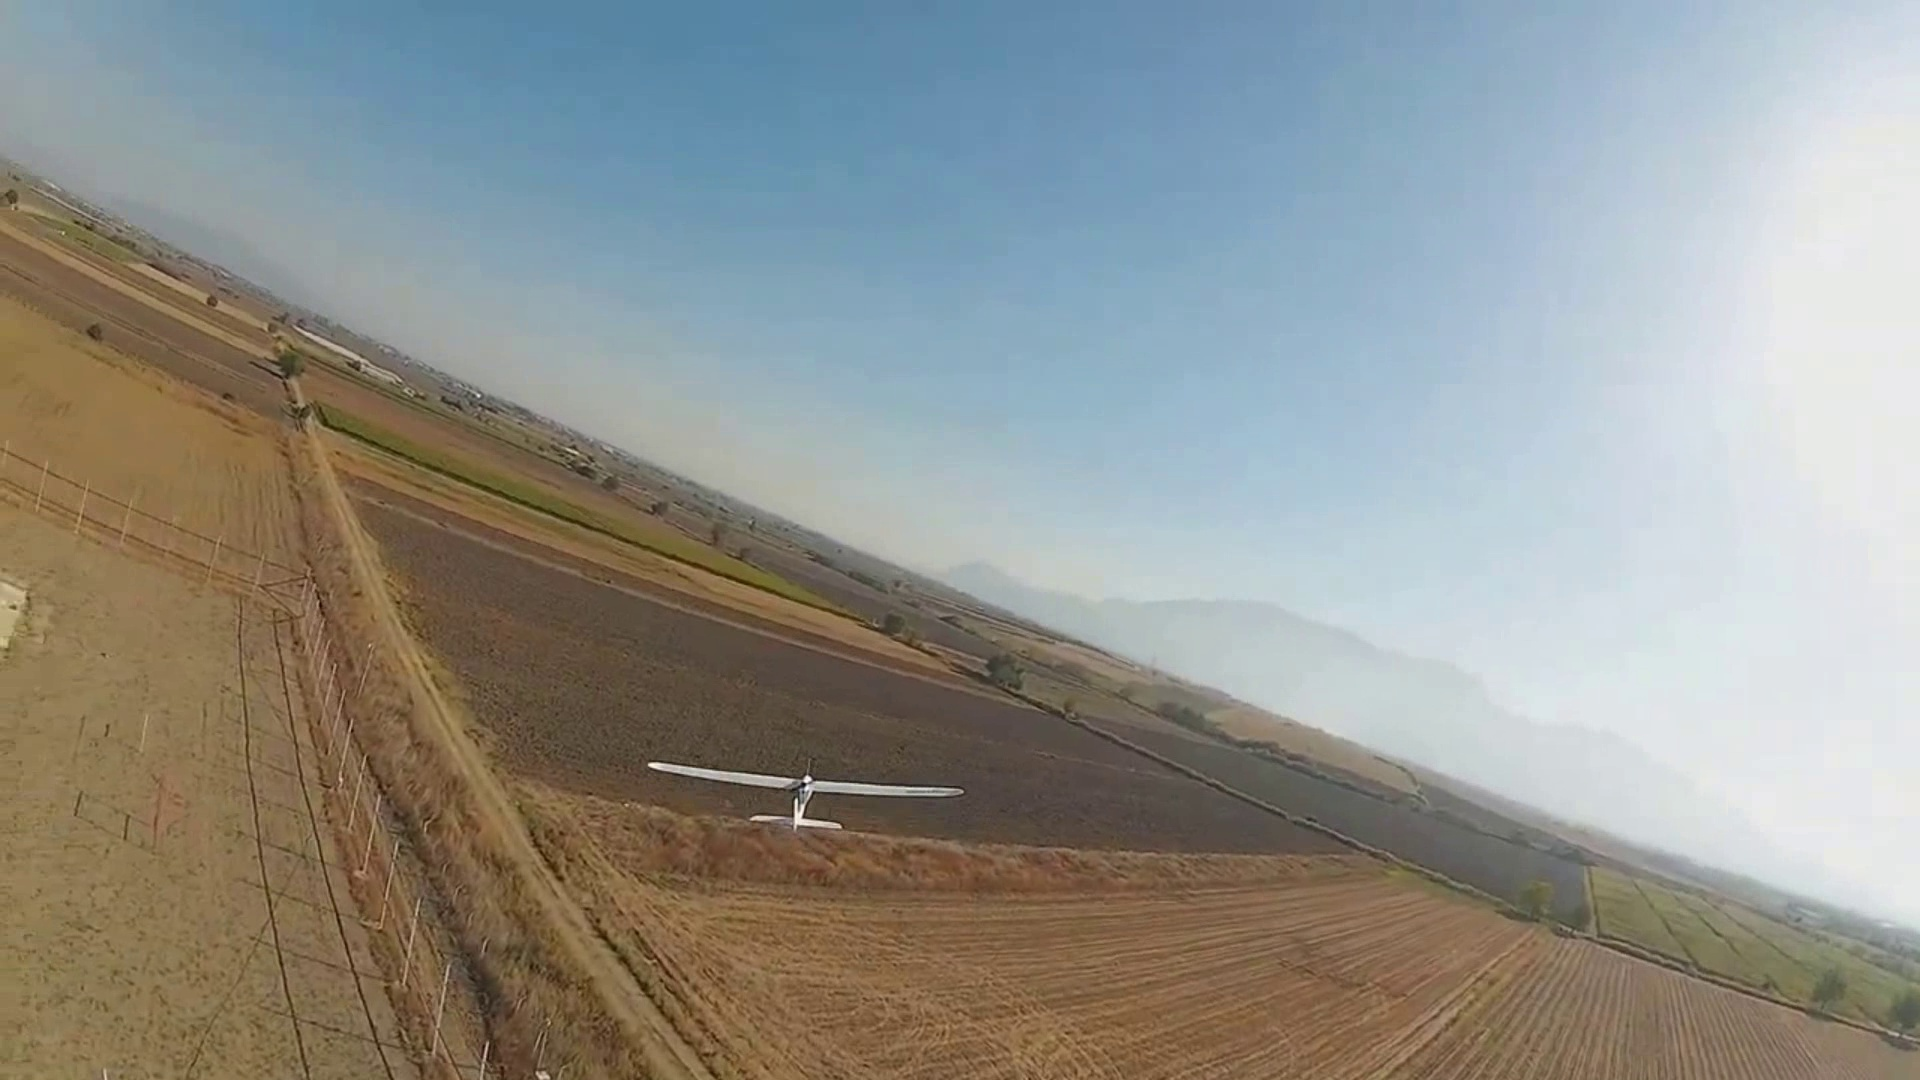airplane: (58, 270, 1917, 1025)
